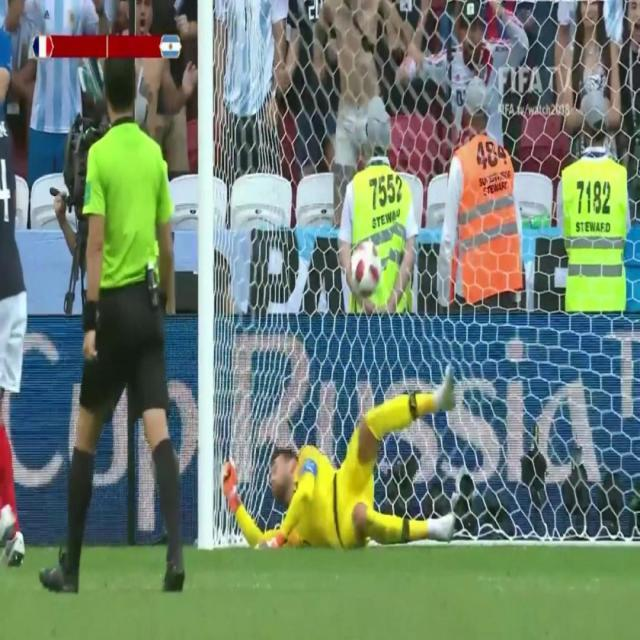ball: (344, 236, 383, 298)
goalkeeper: (217, 379, 467, 564)
player: (41, 55, 195, 603)
